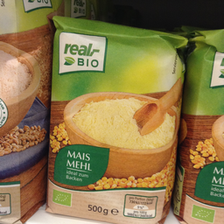flour: (45, 15, 186, 223), (174, 29, 223, 223)
